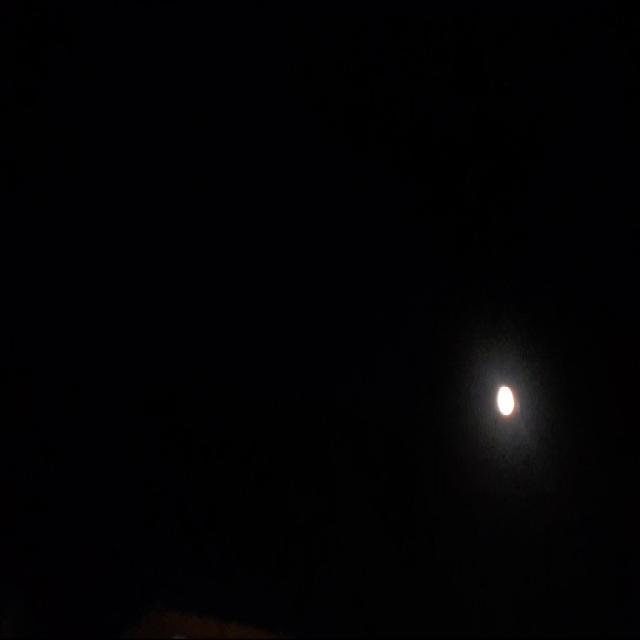moon: (498, 385, 521, 419)
